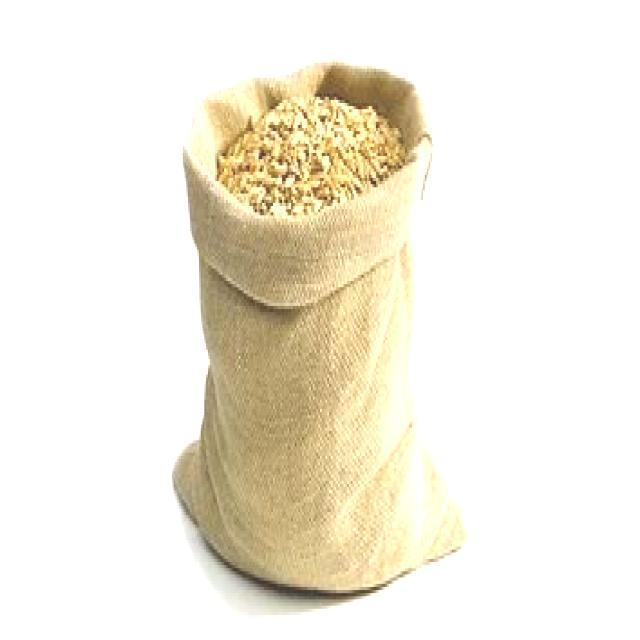gunny_bag: (165, 239, 467, 596)
